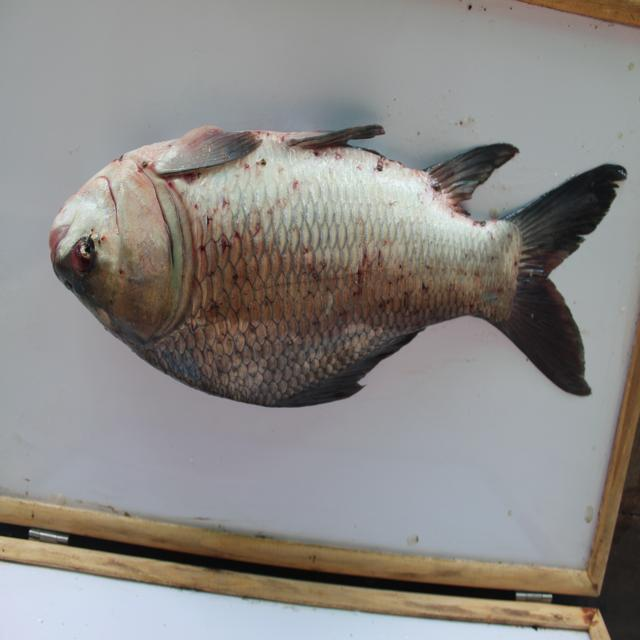Catla: (42, 110, 631, 416)
